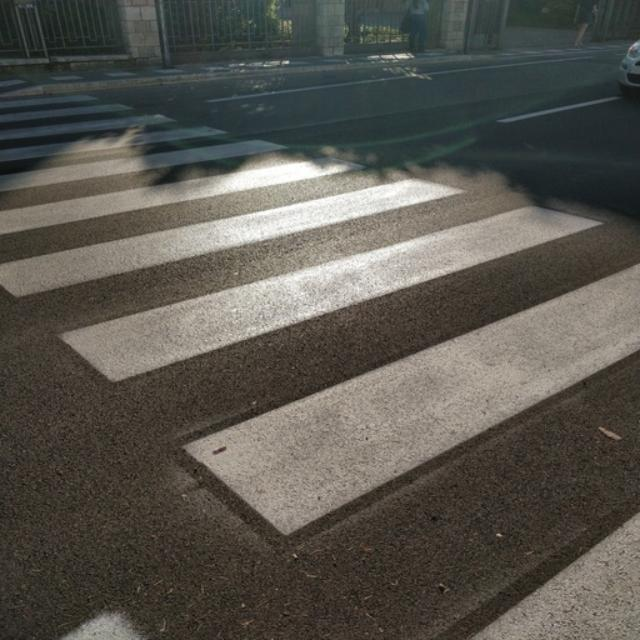sidewalk: (0, 95, 640, 640)
